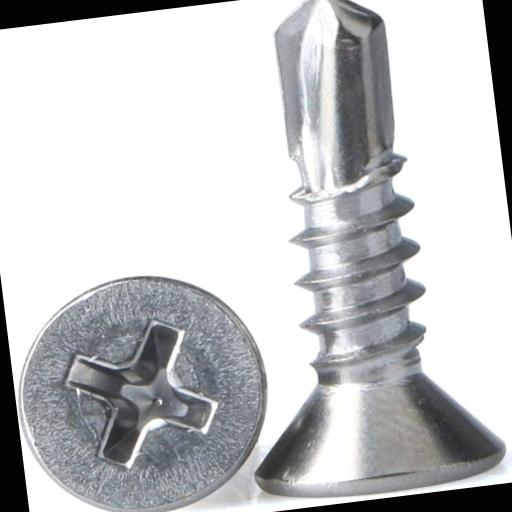Phillips: (7, 261, 283, 512)
